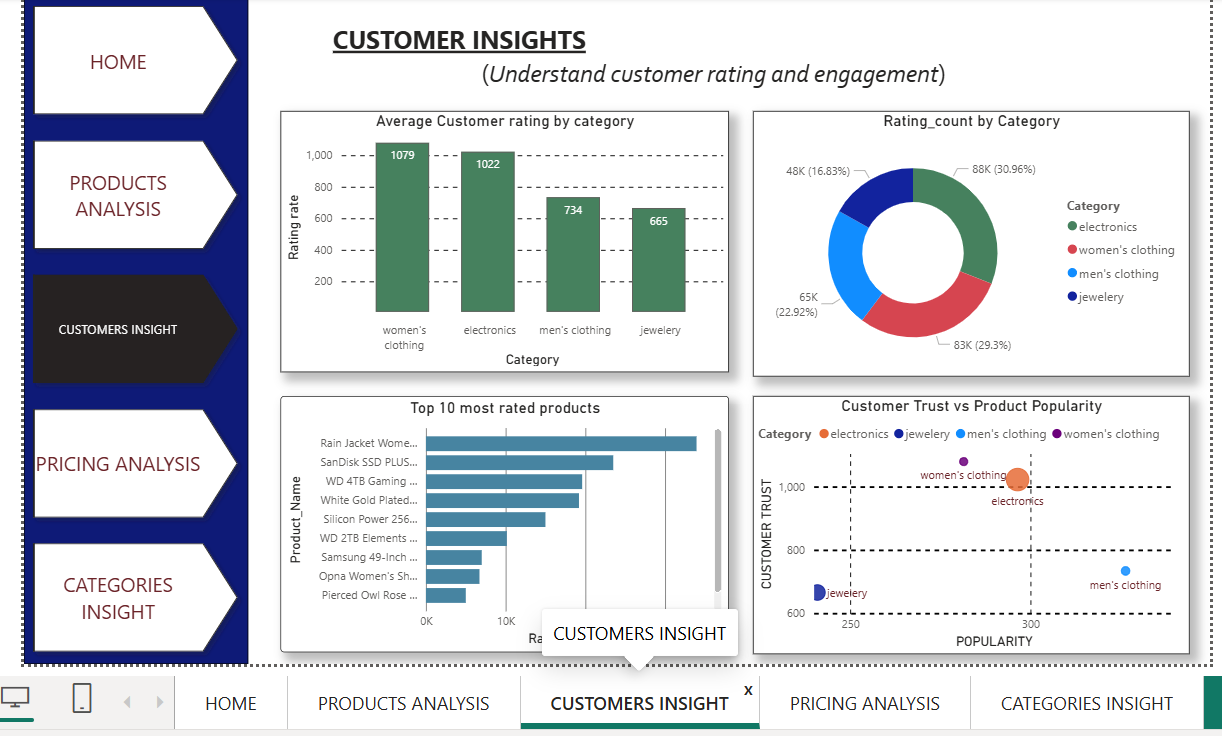

This screenshot's page, from the dashboard's own definition file:
{"tool":"powerbi","page":{"name":"CUSTOMERS INSIGHT","canvas":[1280,720],"ordinal":2},"visuals":[{"type":"pageNavigator","title":"s","box":[0,0,241.7,720],"z":0},{"type":"clusteredColumnChart","title":"Average Customer rating by category","fields":{"Category":["cleaned data.Category"],"Y":["Sum(cleaned data.rating_rate)"]},"box":[276.9,123.1,484.1,281.7],"z":1000},{"type":"barChart","title":"Top 10 most rated  products","fields":{"Category":["cleaned data.Product_Name"],"Y":["Sum(cleaned data.rating_count)"]},"box":[276.9,430.7,484.1,276.9],"z":2000},{"type":"donutChart","title":" Rating_count by Category","fields":{"Category":["cleaned data.Category"],"Y":["Sum(cleaned data.rating_count)"]},"box":[786.9,123.1,471.2,286.6],"z":3000},{"type":"scatterChart","title":"Customer Trust vs Product Popularity","fields":{"Size":["Sum(cleaned data.Price)"],"Series":["cleaned data.Category"],"Y":["Sum(cleaned data.rating_rate)"],"X":["Avg(cleaned data.rating_count)"]},"box":[786.9,430.7,471.2,278.5],"z":4000},{"type":"textbox","box":[276.9,22.7,969.9,85.8],"z":5000}]}

Visuals, with their boxes on the page's 1280x720 design canvas (x1, y1, x2, y2). These are canvas units, not pixel positions in the 1222x736 screenshot, which may show the page scaled, cropped or inside an application window:
"s" pageNavigator: Rect(0, 0, 242, 720)
"Average Customer rating by category" clusteredColumnChart: Rect(277, 123, 761, 405)
"Top 10 most rated  products" barChart: Rect(277, 431, 761, 708)
" Rating_count by Category" donutChart: Rect(787, 123, 1258, 410)
"Customer Trust vs Product Popularity" scatterChart: Rect(787, 431, 1258, 709)
textbox: Rect(277, 23, 1247, 108)
